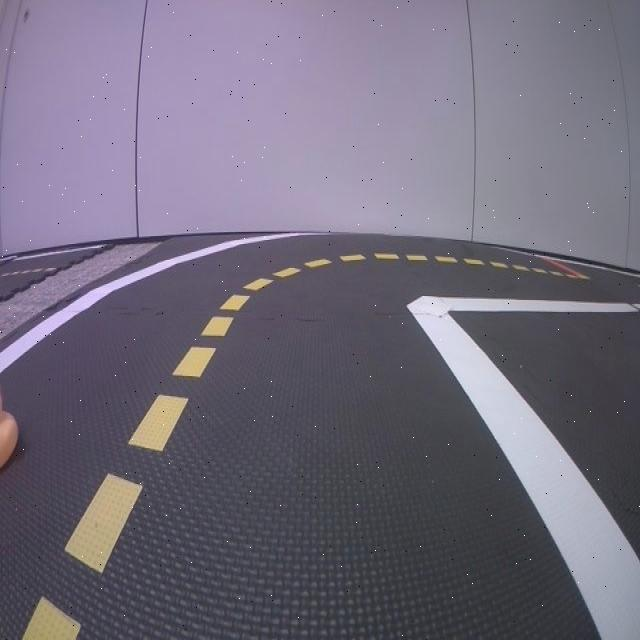duckie: (0, 390, 18, 472)
